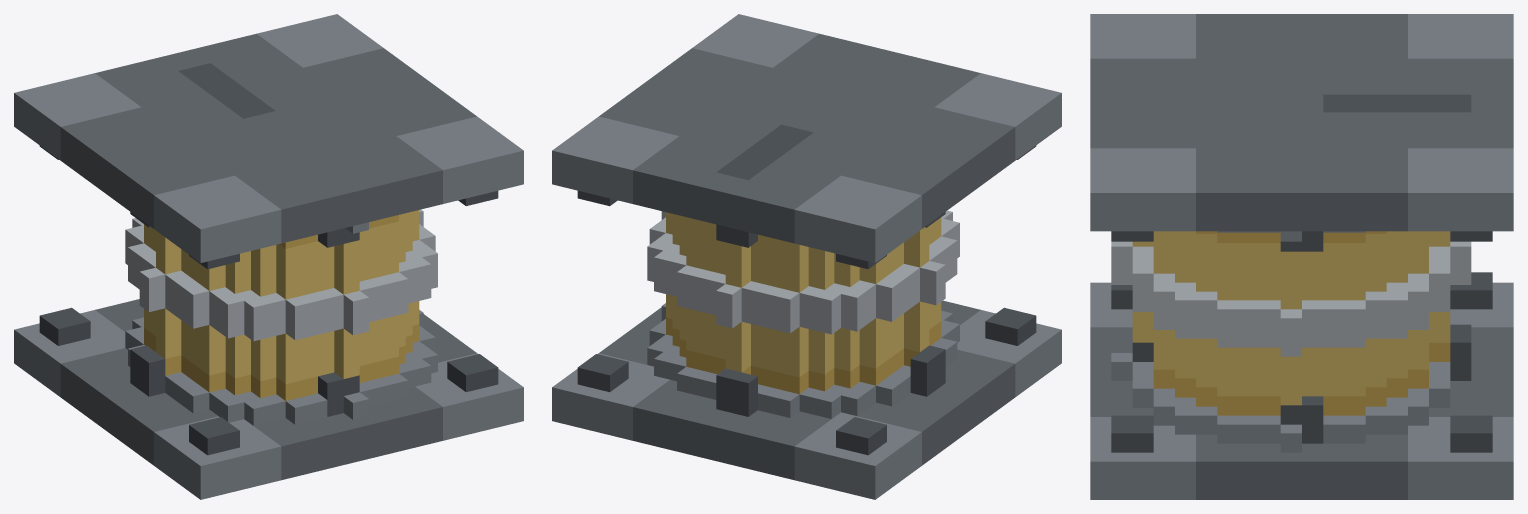
File: ring.glb
The picture shows the model from 3 angles, left to right: view 1: azimuth 30°, elevation 25°; view 2: azimuth 150°, elevation 25°; view 3: azimuth 270°, elevation 25°; orthographic projection. The views are drawn at different scales.
Size of the model in its own units: 20 by 16 by 20.
